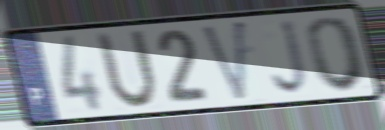2: (155, 27, 212, 107)
4: (59, 32, 106, 115)
J: (270, 17, 312, 98)
O: (304, 13, 371, 94)
U: (93, 27, 160, 113)
V: (199, 16, 248, 106)
